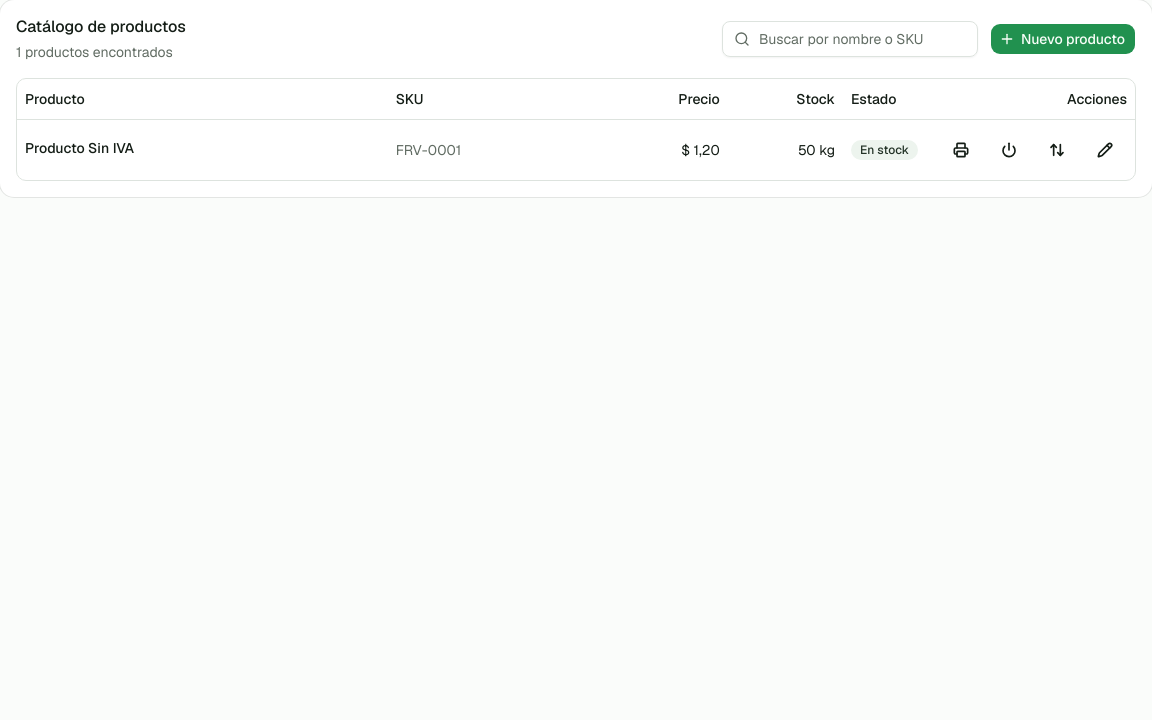
Test: ProductsTable › shows an error toast and prevents update if product has null iva
Later steps or results of the test are not shown.
Click the button named "Editar Producto Sin IVA". click: (1105, 150)
box: [1083,128,1127,172]
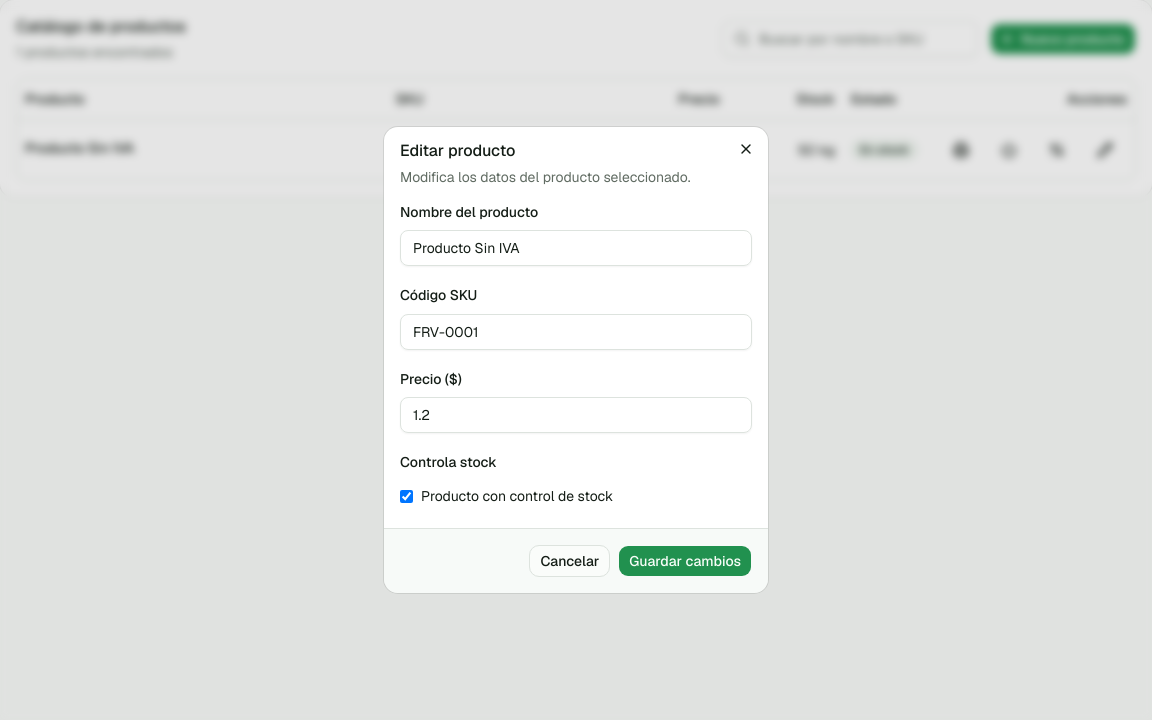
Expected: the dialog is shown, [384,127,768,593]
